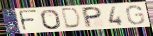4: (108, 6, 124, 27)
D: (61, 7, 83, 30)
F: (18, 10, 38, 32)
G: (125, 5, 146, 26)
O: (39, 9, 63, 30)
P: (82, 6, 103, 29)
